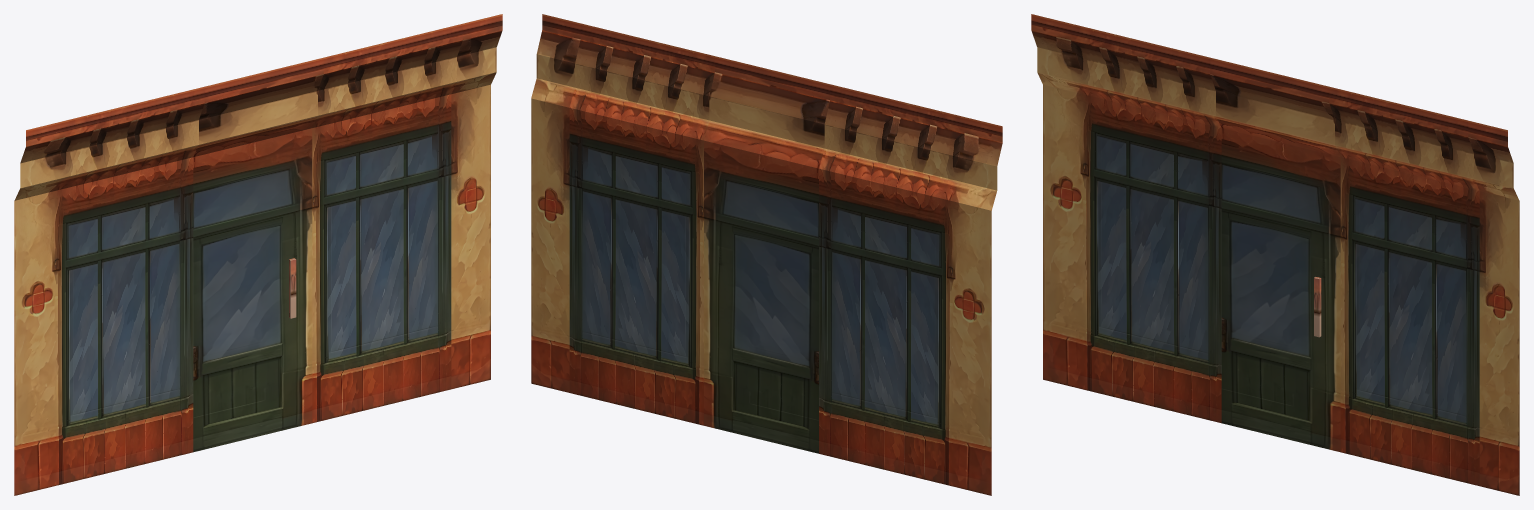
Rendered from MSN_G_Bay6B.fbx.
The picture shows the model from 3 angles, left to right: view 1: azimuth 30°, elevation 25°; view 2: azimuth 150°, elevation 25°; view 3: azimuth 330°, elevation 25°; orthographic projection. The views are drawn at different scales.
Parts seen in each view (by area): view 1: MSN_G_Bay6B; view 2: MSN_G_Bay6B; view 3: MSN_G_Bay6B.
Boxes of the visible parts, <box> form: MSN_G_Bay6B: <box>14,14,502,495</box>; MSN_G_Bay6B: <box>531,14,1002,495</box>; MSN_G_Bay6B: <box>1031,14,1519,495</box>.
Bounding box in the file's own units: 6 × 0.25 × 4.5.
Materials: 1 (1 with a texture image).
